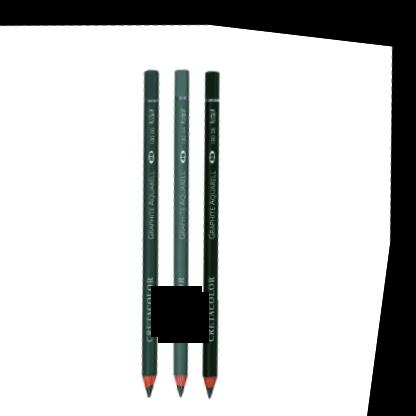pencil: (143, 62, 171, 394), (173, 61, 201, 393), (204, 62, 231, 395)
